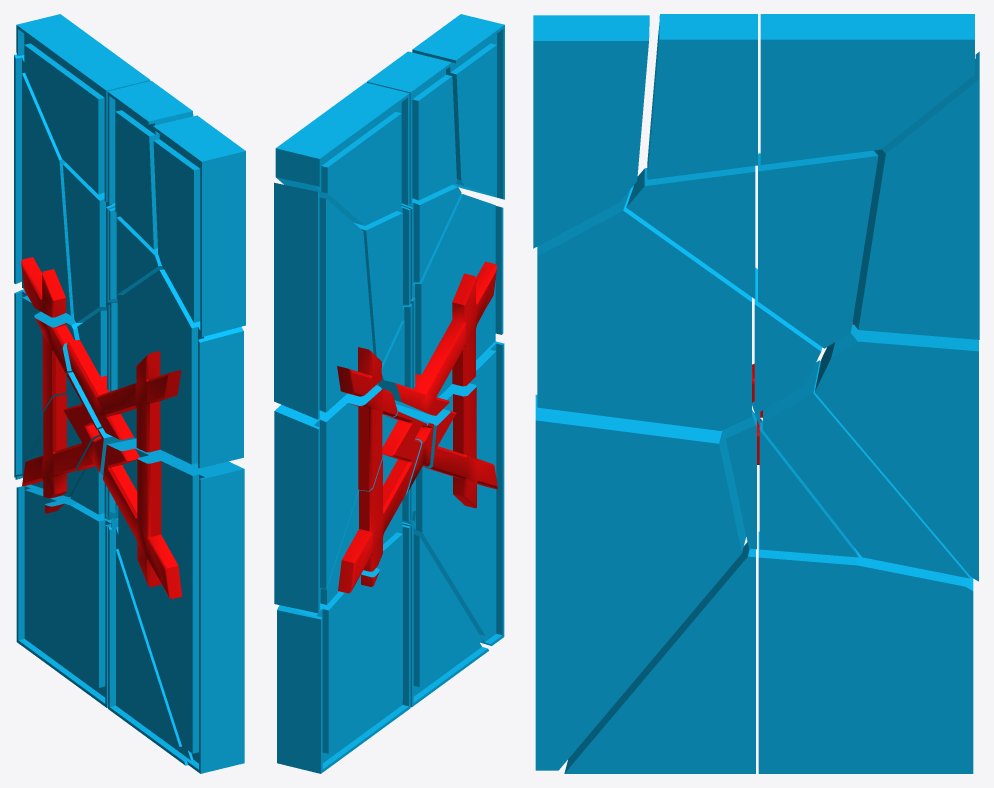
Rendered from destructible_door_shatter.FBX.
3 views of the same model, side by side, from view 1: azimuth 30°, elevation 25°; view 2: azimuth 150°, elevation 25°; view 3: azimuth 270°, elevation 25° (orthographic). The views are drawn at different scales.
Parts seen in each view (by area): view 1: destructible_door_Part_10, destructible_door_Part_1, destructible_door_Part_7, destructible_door_Part_8, destructible_door_Part_3, destructible_door_Part_5, destructible_door_Part_6, destructible_door_Part_2, destructible_door_Part_4, destructible_door_Part_9; view 2: destructible_door_Part_1, destructible_door_Part_8, destructible_door_Part_5, destructible_door_Part_10, destructible_door_Part_2, destructible_door_Part_7, destructible_door_Part_3, destructible_door_Part_6, destructible_door_Part_4, destructible_door_Part_9; view 3: destructible_door_Part_1, destructible_door_Part_10, destructible_door_Part_7, destructible_door_Part_8, destructible_door_Part_6, destructible_door_Part_5, destructible_door_Part_2, destructible_door_Part_3, destructible_door_Part_4, destructible_door_Part_9.
Part boxes in pixels (x1,y1,x2,y2): destructible_door_Part_10: (103,438,244,773); destructible_door_Part_1: (16,484,193,765); destructible_door_Part_7: (66,269,243,468); destructible_door_Part_8: (16,14,193,249); destructible_door_Part_3: (153,115,245,336); destructible_door_Part_5: (14,54,73,317); destructible_door_Part_6: (63,163,163,322); destructible_door_Part_2: (14,289,82,477); destructible_door_Part_4: (15,372,102,498); destructible_door_Part_9: (70,428,136,520); destructible_door_Part_1: (277,522,488,773); destructible_door_Part_8: (275,51,456,225); destructible_door_Part_5: (274,182,381,419); destructible_door_Part_10: (395,341,504,645); destructible_door_Part_2: (274,383,397,613); destructible_door_Part_7: (378,193,503,415); destructible_door_Part_3: (412,14,504,199); destructible_door_Part_6: (354,184,461,363); destructible_door_Part_4: (318,411,426,613); destructible_door_Part_9: (383,417,433,544); destructible_door_Part_1: (564,531,973,773); destructible_door_Part_10: (535,394,746,770); destructible_door_Part_7: (537,185,822,430); destructible_door_Part_8: (647,14,974,179); destructible_door_Part_6: (626,150,878,348); destructible_door_Part_5: (852,51,979,339); destructible_door_Part_2: (815,323,978,581); destructible_door_Part_3: (533,15,649,248); destructible_door_Part_4: (752,360,970,578); destructible_door_Part_9: (726,409,858,557).
Bounding box in the file's own units: 19.01 × 195 × 107.
